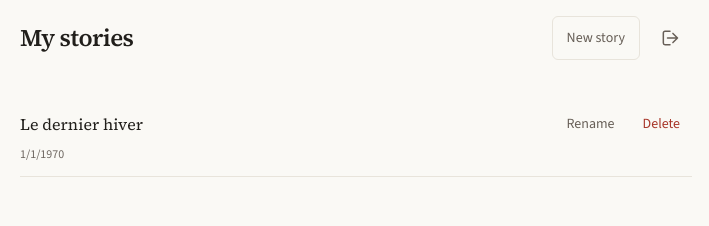
Test case: StoriesView › shows an error and stays in edit mode when renaming a story fails
Expected: the link "Le dernier hiver" is shown, [20,113,143,135]
Click the button with test id "story-rename-button". click: click(590, 124)
box: [554,102,626,146]
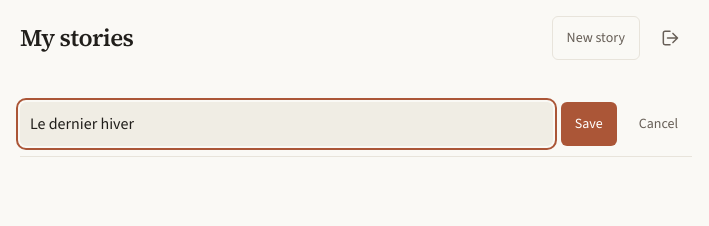
Replace the text in the field with test id "story-title-edit-input" with "Titre modifié". click: (286, 124)
box: [20,102,553,146]
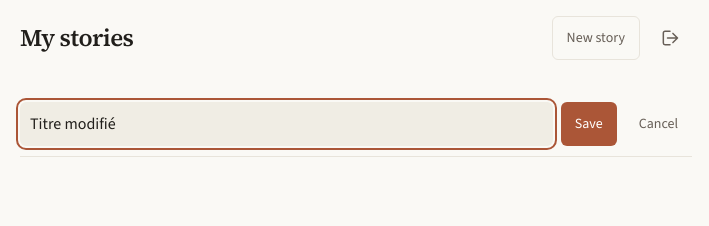
Click the button with test id "story-title-save-button". click: click(589, 124)
box: [561,102,617,146]
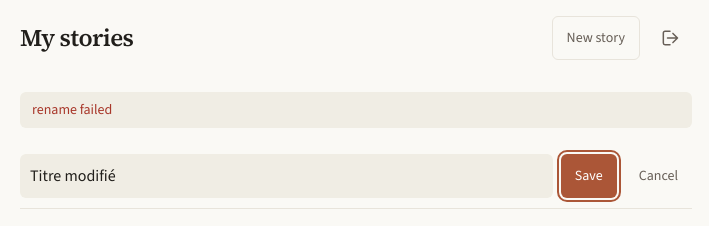
Now the message with test id "stories-action-error" reads "rename failed", box [32,100,112,119]
